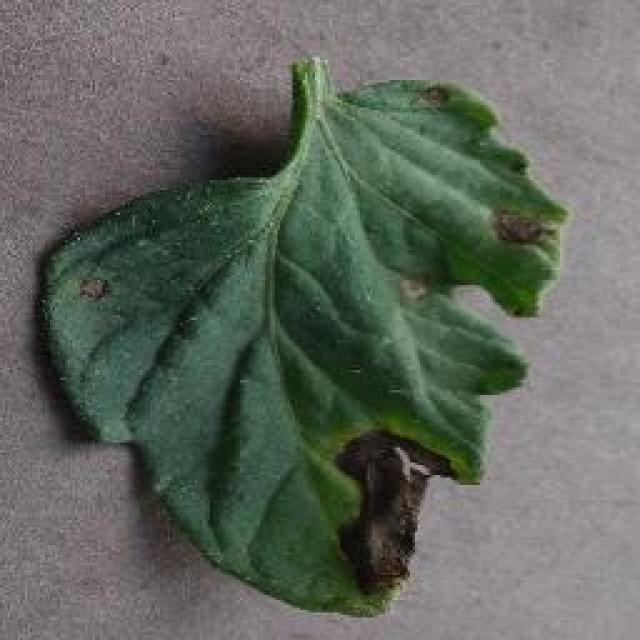Tomato___Early_blight: (40, 49, 574, 618)
